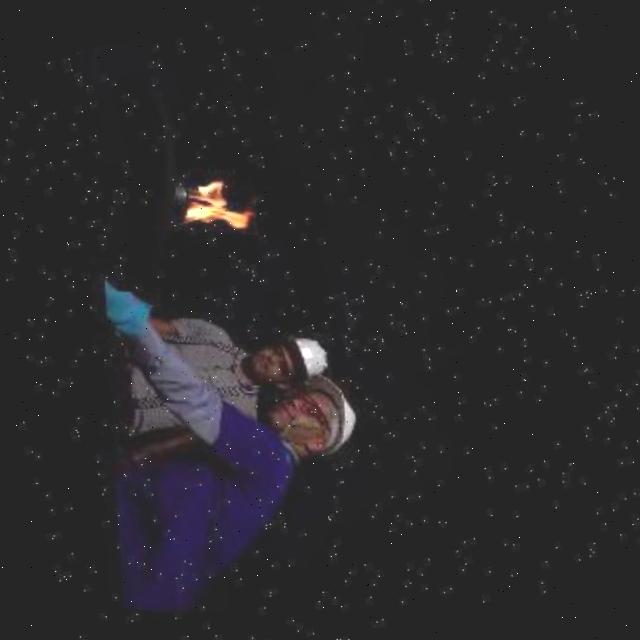fire: (182, 166, 278, 254)
